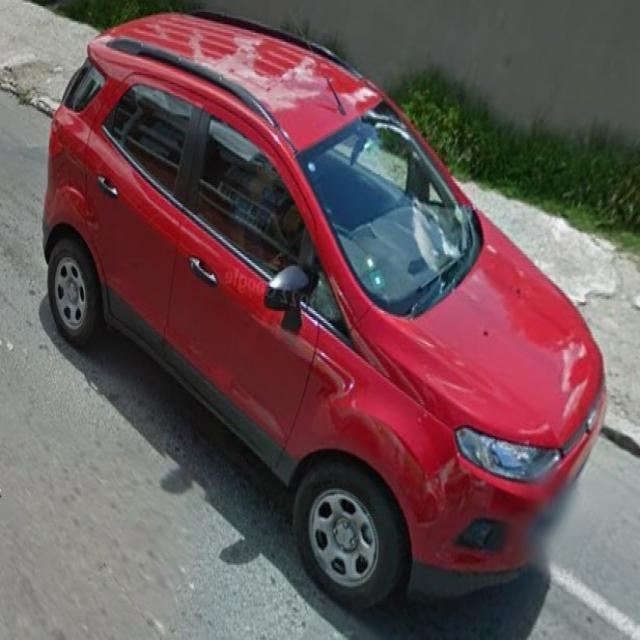car: (41, 9, 610, 611)
